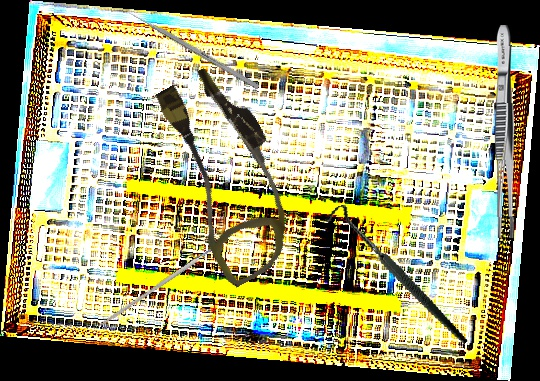Cannula: (131, 57, 323, 291)
Dressing Forceps: (492, 24, 518, 239)
Hook Surgical: (321, 182, 469, 371)
Pusher: (121, 6, 261, 90)
Scalpel Handle: (97, 243, 220, 329)
